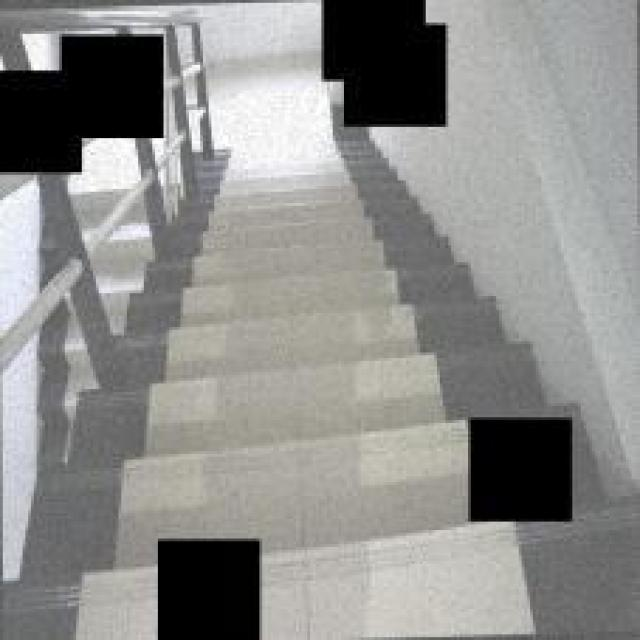downstair: (198, 187, 427, 528)
